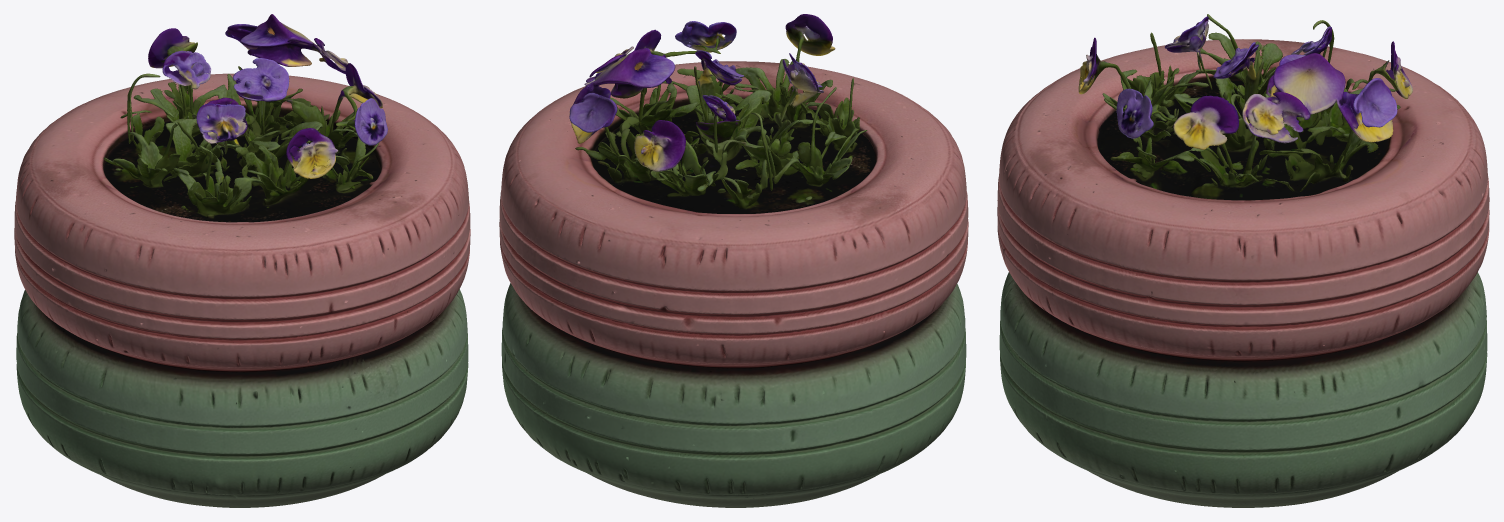
Rendered from llantamaseta.glb.
The picture shows the model from 3 angles, left to right: view 1: azimuth 30°, elevation 25°; view 2: azimuth 150°, elevation 25°; view 3: azimuth 270°, elevation 25°; orthographic projection. The views are drawn at different scales.
Parts seen in each view (by area): view 1: tripo_node_d3d16cd1-082b-437e-a879-282dfa98b0d1; view 2: tripo_node_d3d16cd1-082b-437e-a879-282dfa98b0d1; view 3: tripo_node_d3d16cd1-082b-437e-a879-282dfa98b0d1.
Boxes of the visible parts, bbox=[...] form: tripo_node_d3d16cd1-082b-437e-a879-282dfa98b0d1: bbox=[14, 14, 470, 507]; tripo_node_d3d16cd1-082b-437e-a879-282dfa98b0d1: bbox=[499, 14, 968, 507]; tripo_node_d3d16cd1-082b-437e-a879-282dfa98b0d1: bbox=[997, 14, 1489, 507].
Size of the model in its own units: 0.9996 by 0.9755 by 1.
Materials: 1 (1 with a texture image).
